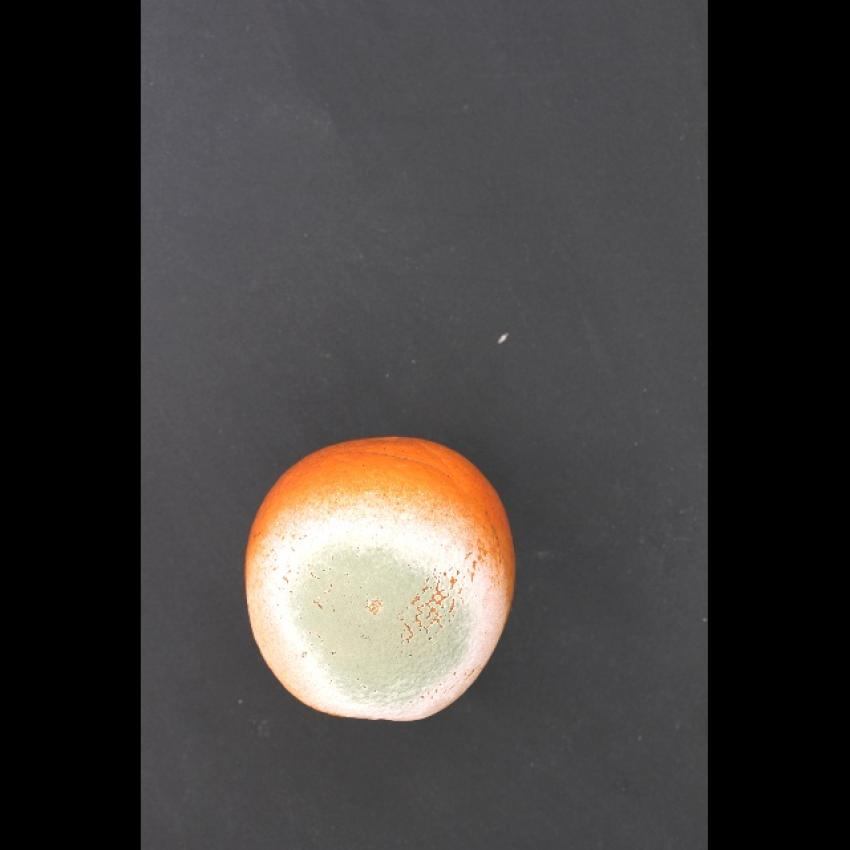Mal estado: (231, 431, 522, 729)
